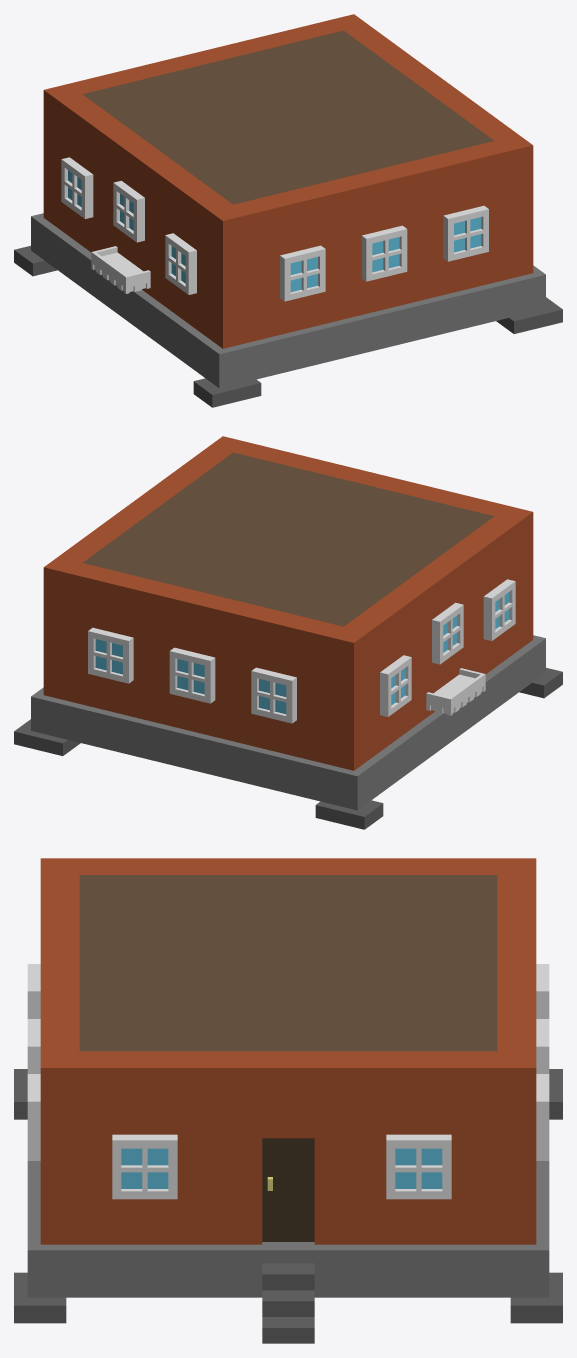
File: houseBase.fbx
The picture shows the model from 3 angles, top to bottom: view 1: azimuth 30°, elevation 25°; view 2: azimuth 150°, elevation 25°; view 3: azimuth 270°, elevation 25°; orthographic projection. The views are drawn at different scales.
Parts seen in each view (by area): view 1: BaseHouse, Base, Window6, Window7, Window8, Flowerbed, Window1, Window, Window2, Foot1, Foot, Foot2; view 2: BaseHouse, Base, Window3, Window4, Window5, Flowerbed, Window2, Window, Window1, Foot2, Foot3, Foot1; view 3: BaseHouse, Base, DoorFrame, Window9, Window10, Stairs, Foot3, Foot, Window4, Window7, Window3, Window5 (+4 smaller).
Boxes of the visible parts, x1,y1,x2,y2 form: BaseHouse: [43, 14, 533, 348]; Base: [31, 213, 545, 388]; Window6: [361, 225, 407, 281]; Window7: [443, 205, 488, 261]; Window8: [280, 245, 325, 301]; Flowerbed: [91, 246, 150, 293]; Window1: [61, 157, 93, 218]; Window: [113, 180, 144, 242]; Window2: [165, 233, 196, 294]; Foot1: [193, 378, 261, 407]; Foot: [496, 297, 562, 333]; Foot2: [14, 245, 57, 276]; BaseHouse: [43, 436, 533, 770]; Base: [31, 635, 545, 810]; Window3: [169, 647, 215, 703]; Window4: [88, 627, 133, 683]; Window5: [251, 667, 296, 723]; Flowerbed: [426, 668, 485, 715]; Window2: [483, 579, 515, 640]; Window: [432, 602, 463, 664]; Window1: [380, 655, 411, 716]; Foot2: [315, 800, 383, 829]; Foot3: [14, 719, 80, 755]; Foot1: [519, 667, 562, 698]; BaseHouse: [40, 858, 536, 1244]; Base: [27, 1161, 549, 1297]; DoorFrame: [262, 1138, 314, 1241]; Window9: [112, 1134, 177, 1199]; Window10: [386, 1134, 451, 1199]; Stairs: [262, 1263, 314, 1343]; Foot3: [510, 1272, 562, 1323]; Foot: [14, 1272, 66, 1323]; Window4: [536, 1074, 549, 1160]; Window7: [27, 1074, 40, 1160]; Window3: [536, 1019, 549, 1073]; Window5: [536, 964, 549, 1018].
Size of the model in its own units: 12 by 5.11 by 10.52.
